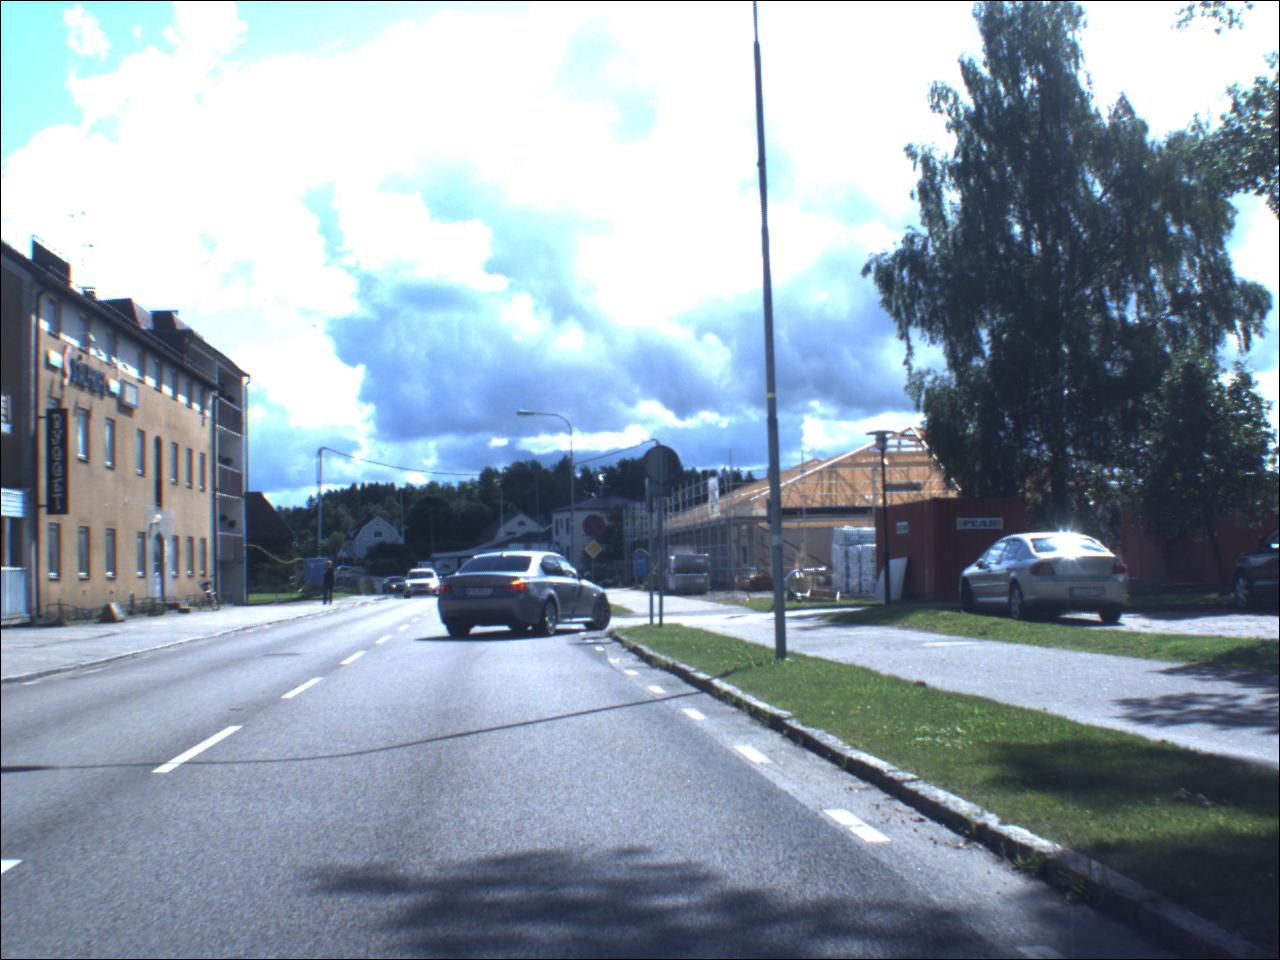NO_STOPPING_NO_STANDING: (583, 515, 609, 541)
PEDESTRIAN_CROSSING: (551, 544, 565, 555), (340, 549, 351, 561)
PRIORITY_ROAD: (585, 541, 606, 562)
